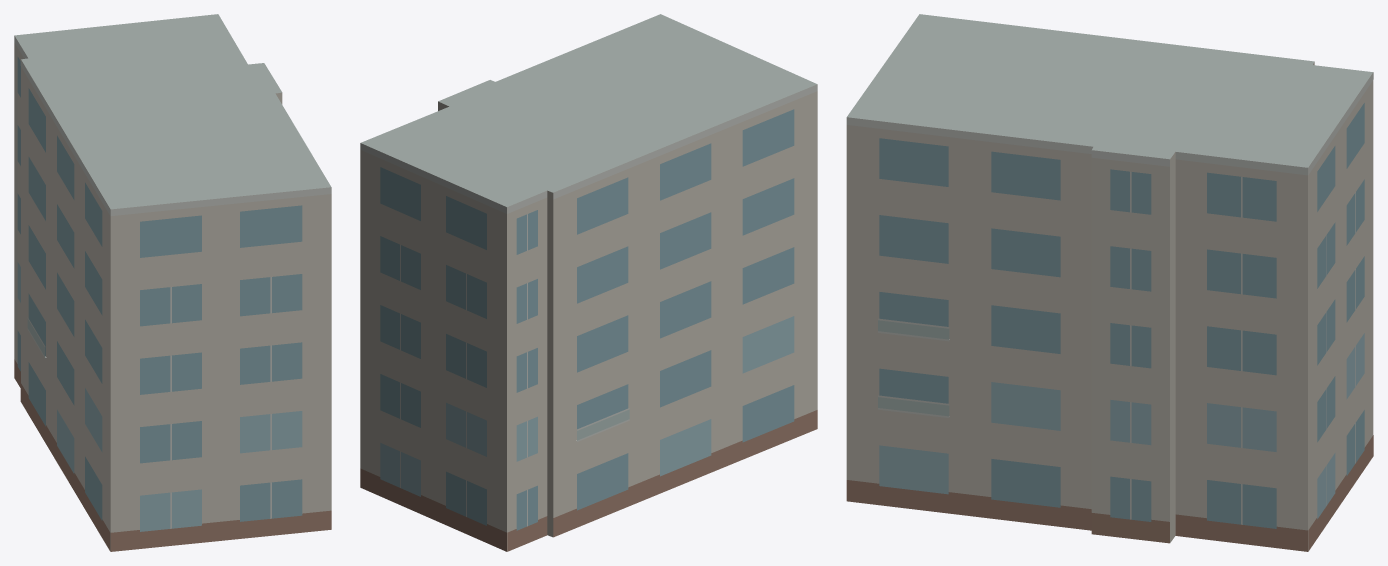
Rendered from survey-upis-32966533.glb.
3 views of the same model, side by side, from view 1: azimuth 30°, elevation 25°; view 2: azimuth 150°, elevation 25°; view 3: azimuth 270°, elevation 25° (orthographic). The views are drawn at different scales.
Parts seen in each view (by area): view 1: survey-upis-32966533.tmp; view 2: survey-upis-32966533.tmp; view 3: survey-upis-32966533.tmp.
Boxes of the visible parts, x1,y1,x2,y2 form: survey-upis-32966533.tmp: (14, 14, 331, 551); survey-upis-32966533.tmp: (360, 14, 817, 551); survey-upis-32966533.tmp: (846, 14, 1373, 551).
Bounding box in the file's own units: 10.57 × 12.3 × 15.3.
